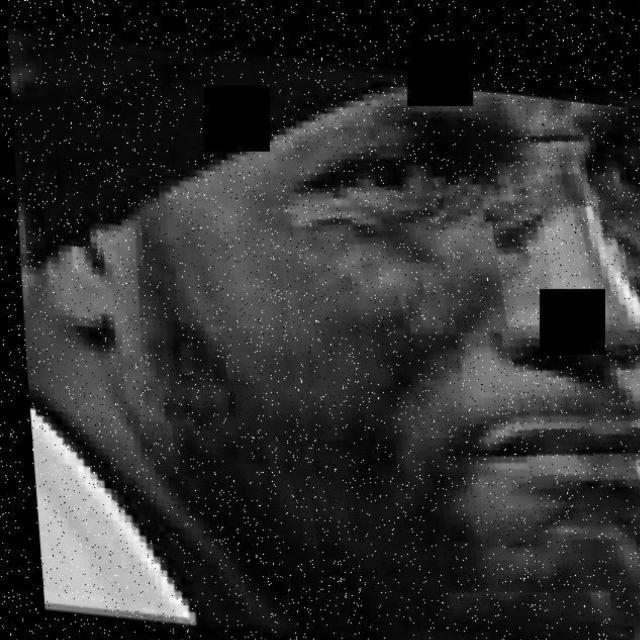Sad: (144, 53, 640, 576)
